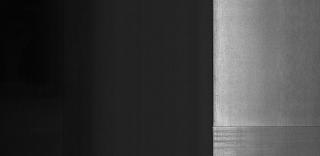welding line: (216, 124, 318, 130)
